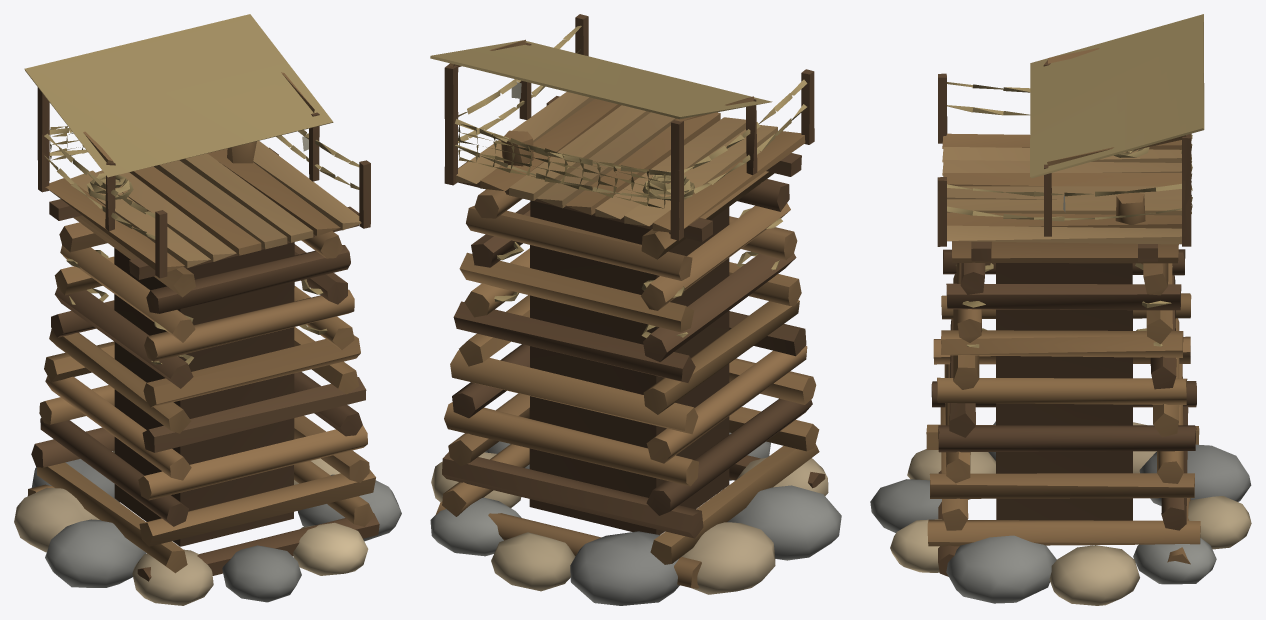
Rendered from lookout_deck_a_lod2.glb.
3 views of the same model, side by side, from view 1: azimuth 30°, elevation 25°; view 2: azimuth 150°, elevation 25°; view 3: azimuth 270°, elevation 25° (orthographic). The views are drawn at different scales.
Visible parts, largest first — view 1: Surface.001; view 2: Surface.001; view 3: Surface.001.
Boxes of the visible parts, left/top/right/bottom form: Surface.001: left=14, top=14, right=401, bottom=605; Surface.001: left=430, top=14, right=841, bottom=605; Surface.001: left=870, top=14, right=1251, bottom=605.
Size of the model in its own units: 7.11 by 9.3 by 6.87.
